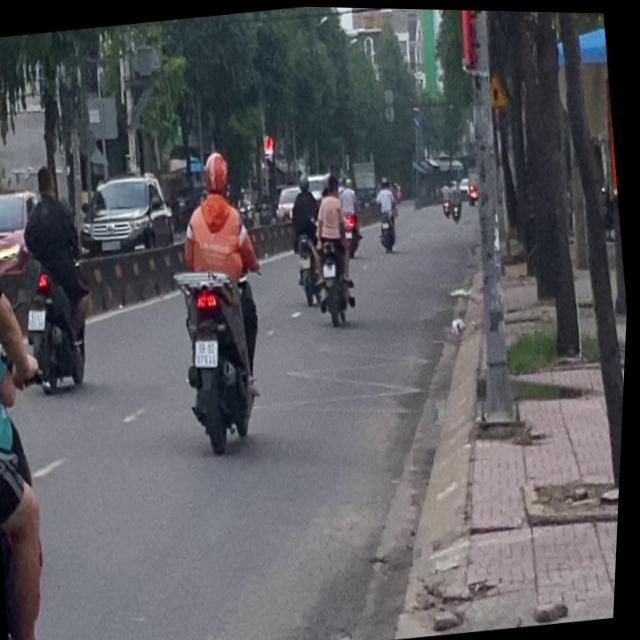helmet: (199, 148, 233, 199)
licenseplate: (0, 104, 90, 640), (154, 143, 285, 456), (5, 156, 108, 395)
motorcyclist: (34, 162, 57, 196)
nohelmet: (195, 337, 222, 368), (28, 307, 49, 331)
